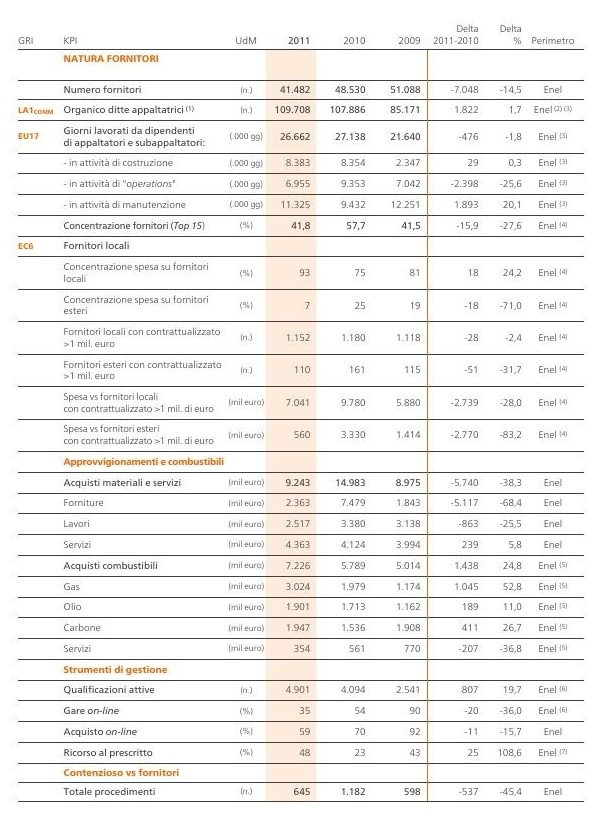table: (0, 0, 603, 820)
